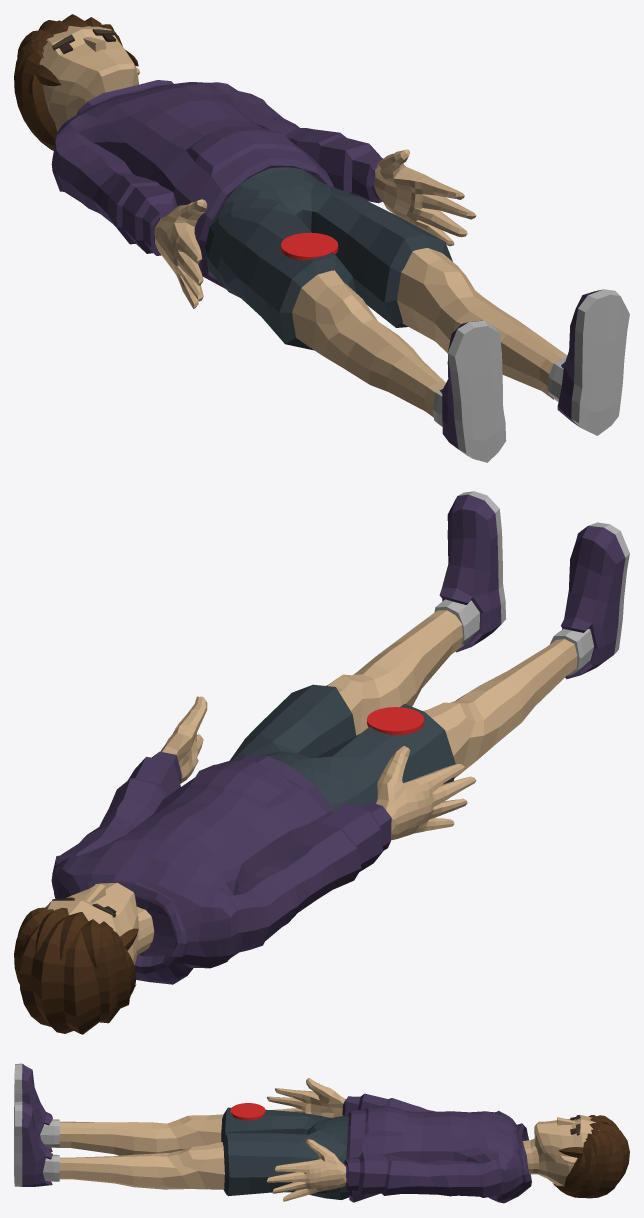
The model's file is placeholder-casualty.glb.
3 renders of one model, top to bottom at view 1: azimuth 30°, elevation 25°; view 2: azimuth 150°, elevation 25°; view 3: azimuth 270°, elevation 25°, orthographic. The views are drawn at different scales.
Visible parts, largest first — view 1: Casual_Legs, Casual_Body, Casual_Feet, Casual_Head, PlaceholderWoundMarker; view 2: Casual_Body, Casual_Legs, Casual_Feet, Casual_Head, PlaceholderWoundMarker; view 3: Casual_Body, Casual_Legs, Casual_Head, Casual_Feet, PlaceholderWoundMarker.
Boxes of the visible parts, x1,y1,x2,y2 form: Casual_Legs: [205, 167, 567, 417]; Casual_Body: [51, 80, 476, 308]; Casual_Feet: [432, 289, 629, 462]; Casual_Head: [14, 14, 139, 150]; PlaceholderWoundMarker: [281, 232, 338, 260]; Casual_Body: [51, 696, 476, 984]; Casual_Legs: [230, 610, 577, 812]; Casual_Feet: [434, 491, 629, 679]; Casual_Head: [14, 882, 154, 1034]; PlaceholderWoundMarker: [367, 707, 424, 735]; Casual_Body: [266, 1078, 531, 1203]; Casual_Legs: [56, 1107, 348, 1199]; Casual_Head: [523, 1115, 629, 1198]; Casual_Feet: [14, 1063, 59, 1186]; PlaceholderWoundMarker: [230, 1103, 265, 1120].
Bounding box in the file's own units: 0.5606 × 0.3537 × 1.75.
